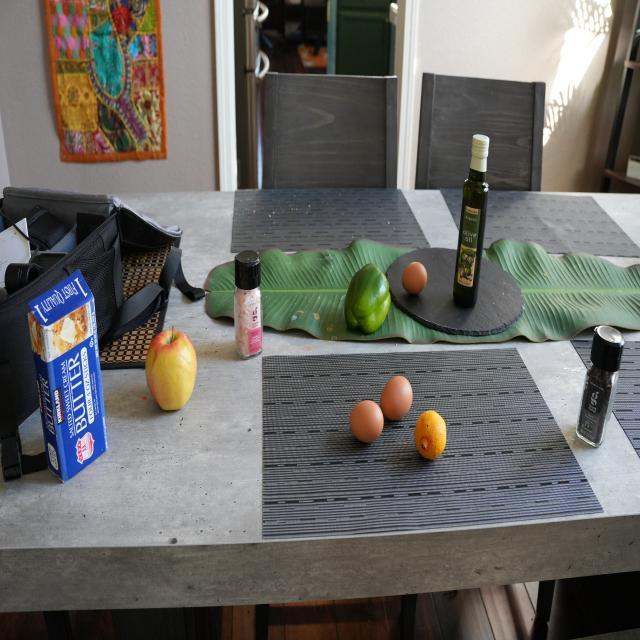bell_pepper: (567, 320, 633, 459), (345, 253, 391, 338)
egg: (351, 398, 387, 450), (380, 374, 414, 422), (398, 258, 430, 300)
